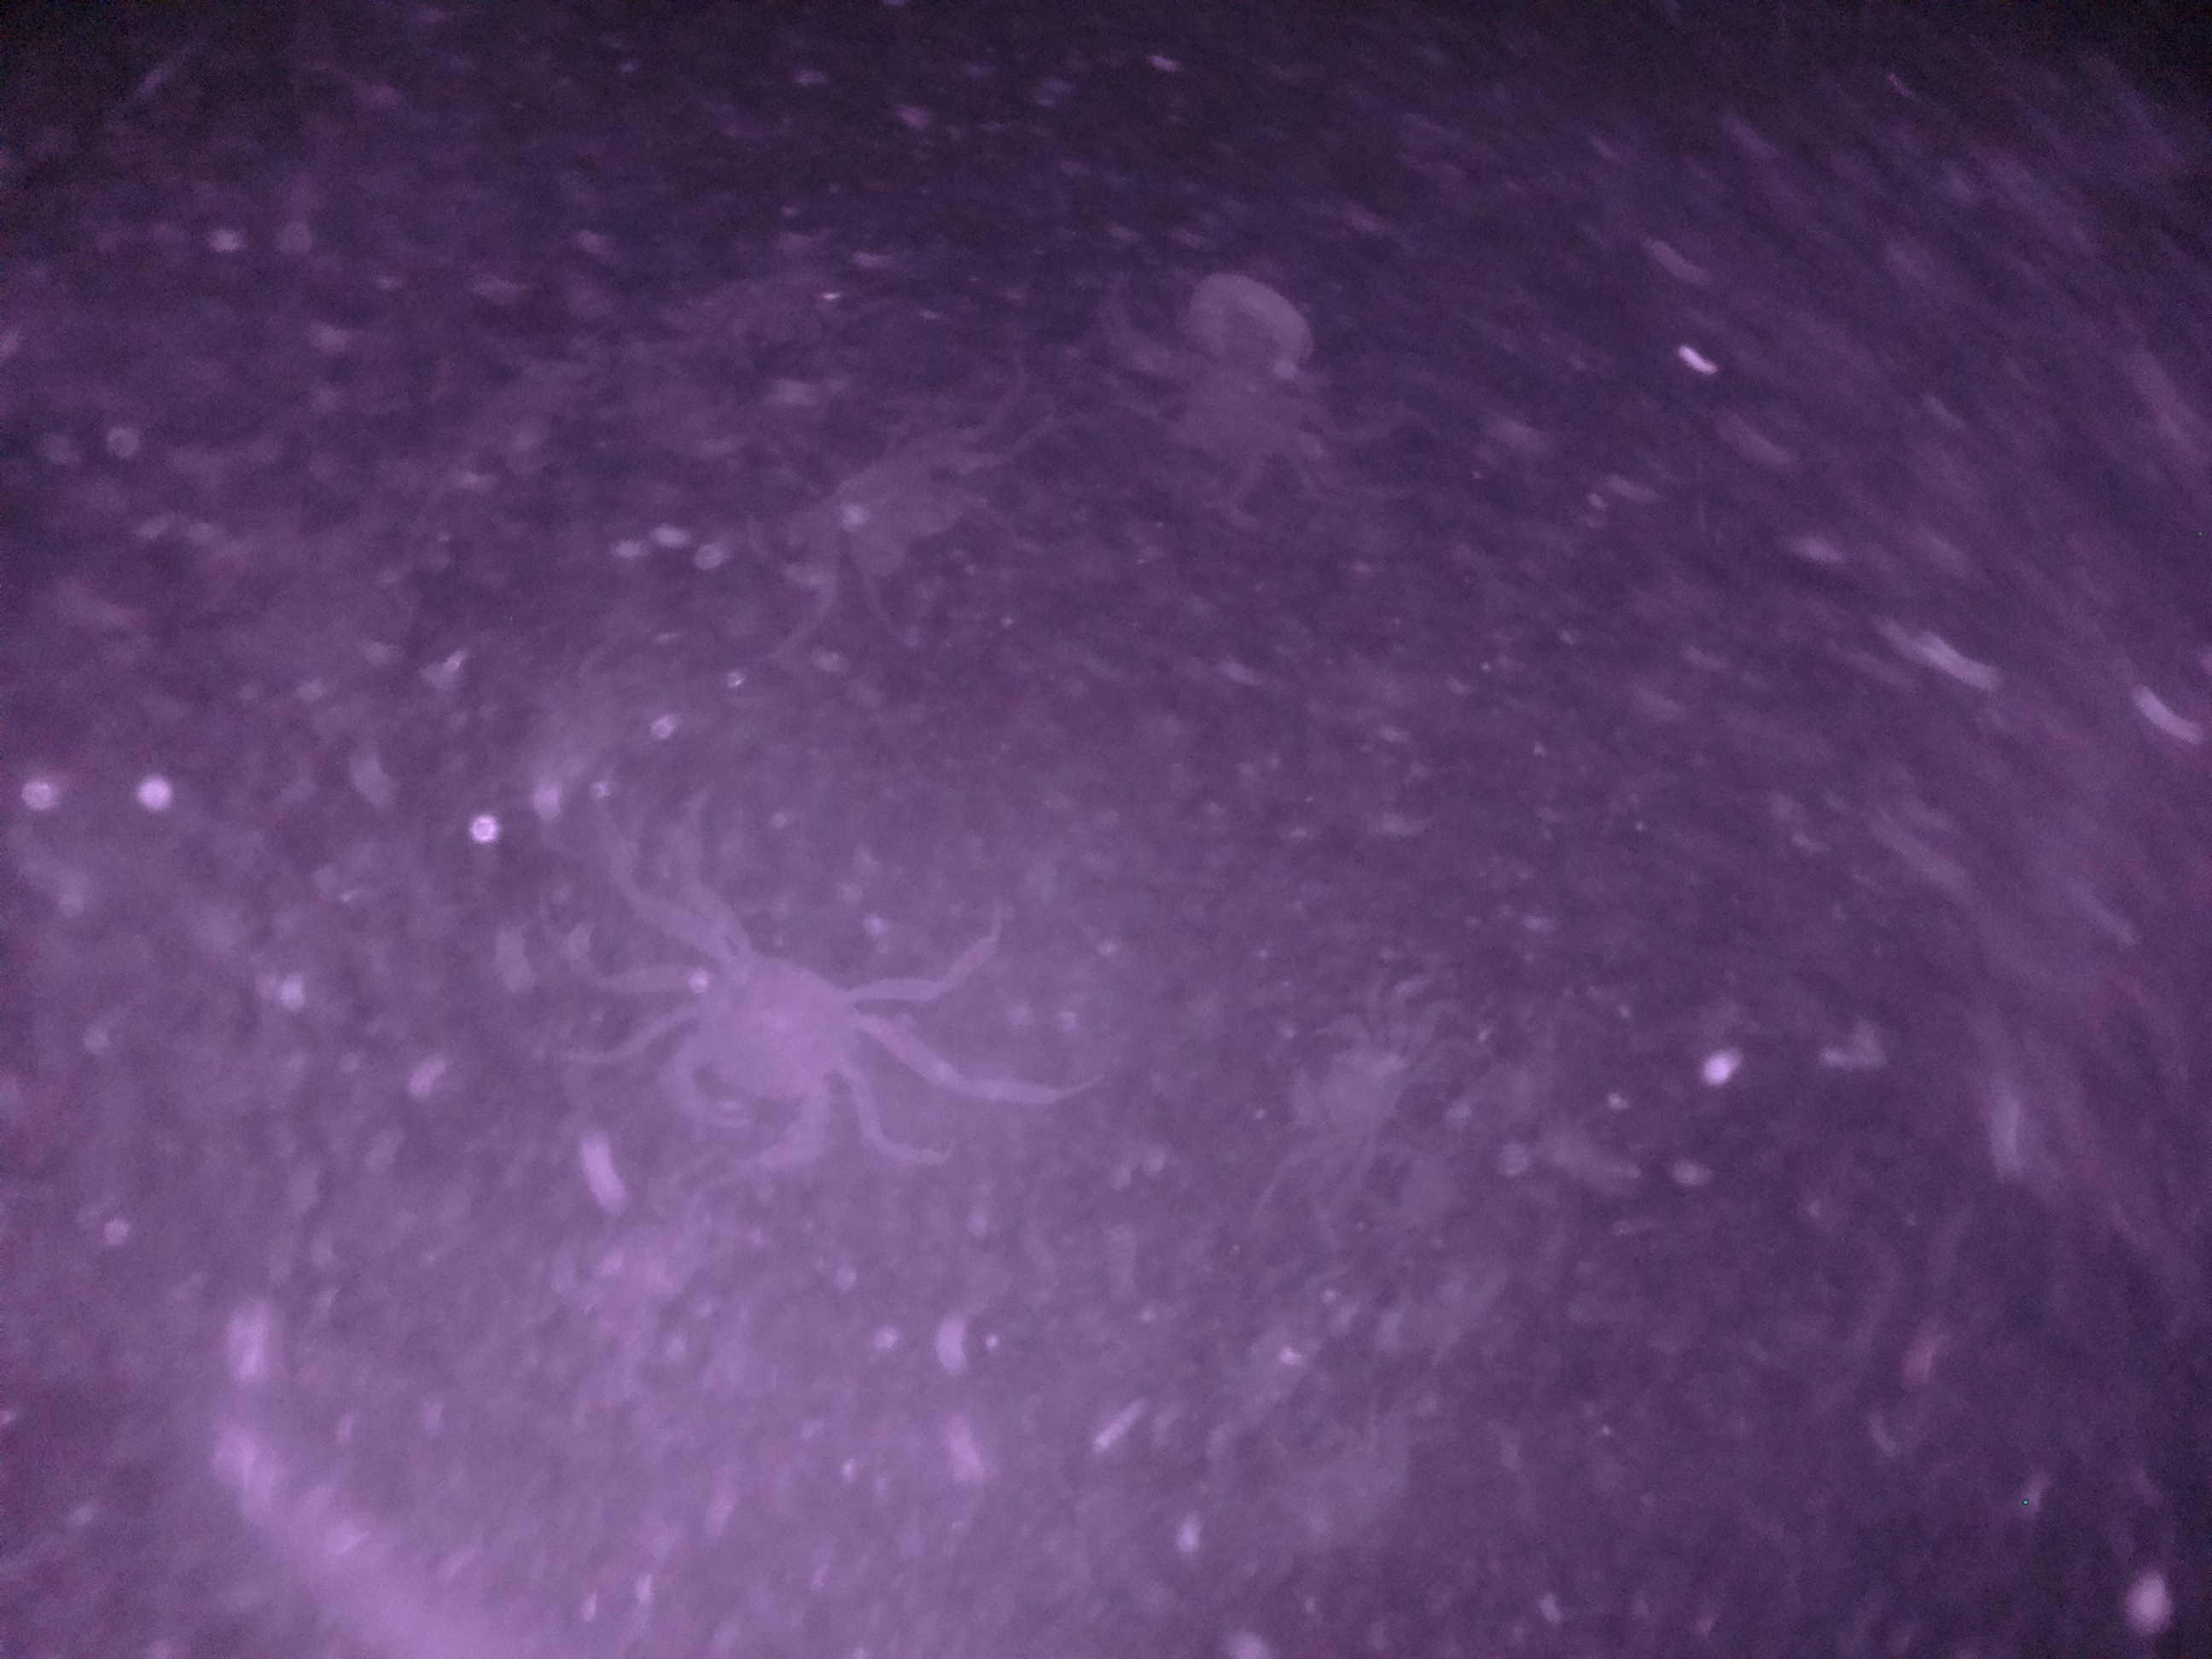Crab: (1275, 983, 1423, 1188)
